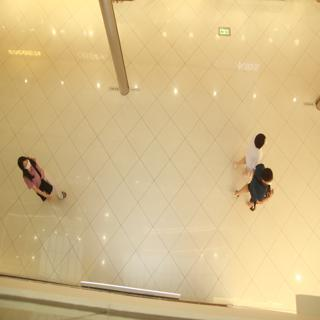person: (13, 145, 72, 212), (234, 159, 286, 214), (232, 129, 283, 166)
